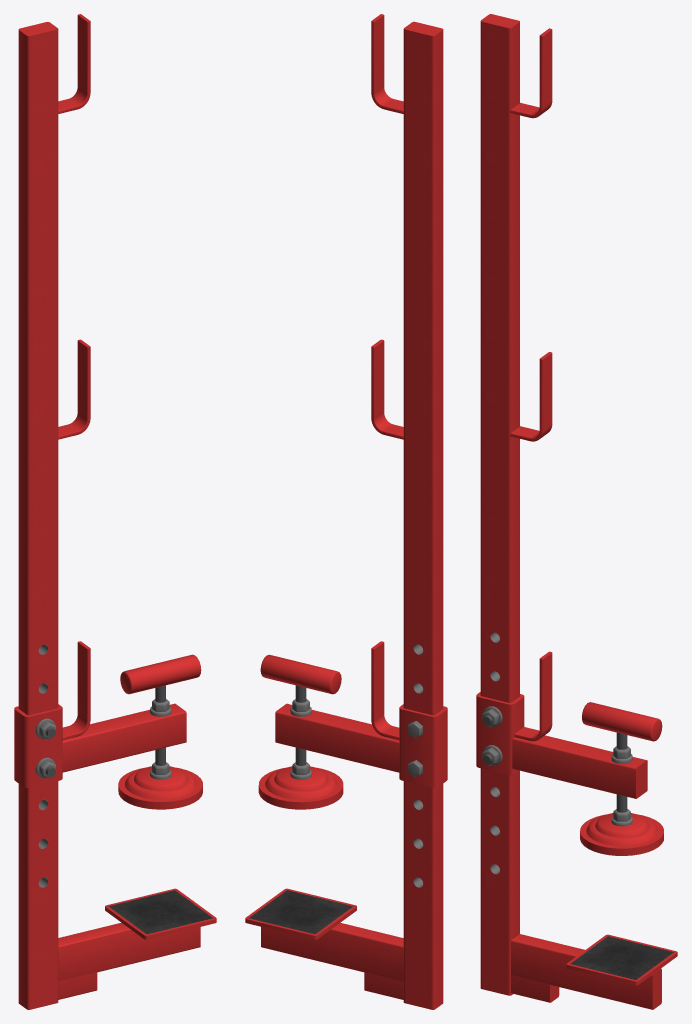
The model's file is Universal-fencing-device.glb.
The picture shows the model from 3 angles, left to right: view 1: azimuth 30°, elevation 25°; view 2: azimuth 150°, elevation 25°; view 3: azimuth 330°, elevation 25°; orthographic projection.
Visible parts, largest first — view 1: universal_fencing_device; view 2: universal_fencing_device; view 3: universal_fencing_device.
Part boxes in pixels (box(x1,y1,x2,y2)): universal_fencing_device: box(14, 14, 216, 1009); universal_fencing_device: box(245, 14, 447, 1009); universal_fencing_device: box(476, 14, 677, 1009).
Size of the model in its own units: 0.2875 by 1.5 by 0.1184.
1 material, 1 textured.
